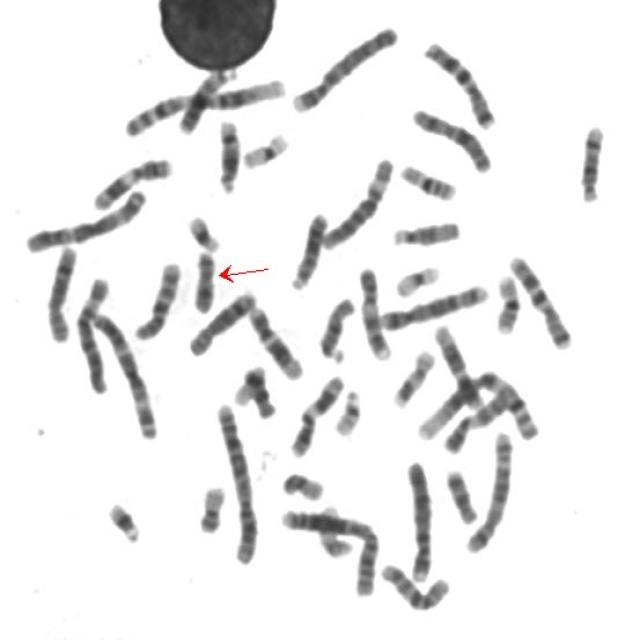A1: (118, 68, 289, 138), (413, 364, 542, 444)
A2: (276, 500, 383, 599), (210, 394, 262, 566)
A3: (86, 303, 163, 442), (20, 180, 152, 254)
B4: (287, 15, 403, 115), (402, 451, 438, 584)
B5: (461, 423, 517, 555), (374, 274, 492, 332)
C10: (130, 252, 186, 342), (375, 554, 456, 612)
C11: (285, 366, 348, 459), (87, 148, 177, 212)
C12: (428, 315, 488, 411), (243, 298, 308, 382)
C6: (317, 148, 398, 250), (70, 268, 116, 397)
C7: (419, 31, 501, 131), (504, 245, 578, 351)
C8: (183, 282, 260, 358), (42, 238, 82, 344)
C9: (439, 381, 516, 455), (353, 258, 397, 362)
D13: (174, 61, 238, 135), (286, 202, 333, 292)
D14: (575, 115, 610, 205), (212, 111, 245, 194)
D15: (314, 288, 360, 364), (387, 211, 465, 249)
E16: (396, 155, 462, 203), (490, 265, 526, 335)
E17: (388, 341, 440, 409), (314, 499, 355, 560)
E18: (441, 460, 483, 525), (189, 242, 220, 314)
F19: (238, 124, 293, 170), (390, 256, 444, 299)
F20: (193, 476, 230, 535), (276, 464, 328, 501)
G21: (102, 493, 147, 545), (183, 206, 224, 254)
G22: (328, 382, 366, 438), (230, 359, 268, 406)
X: (407, 98, 498, 174)
